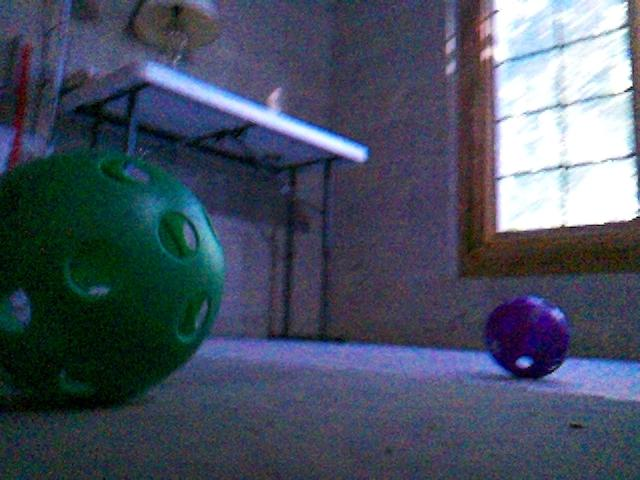Green: (0, 148, 225, 410)
Purple: (482, 294, 572, 380)
